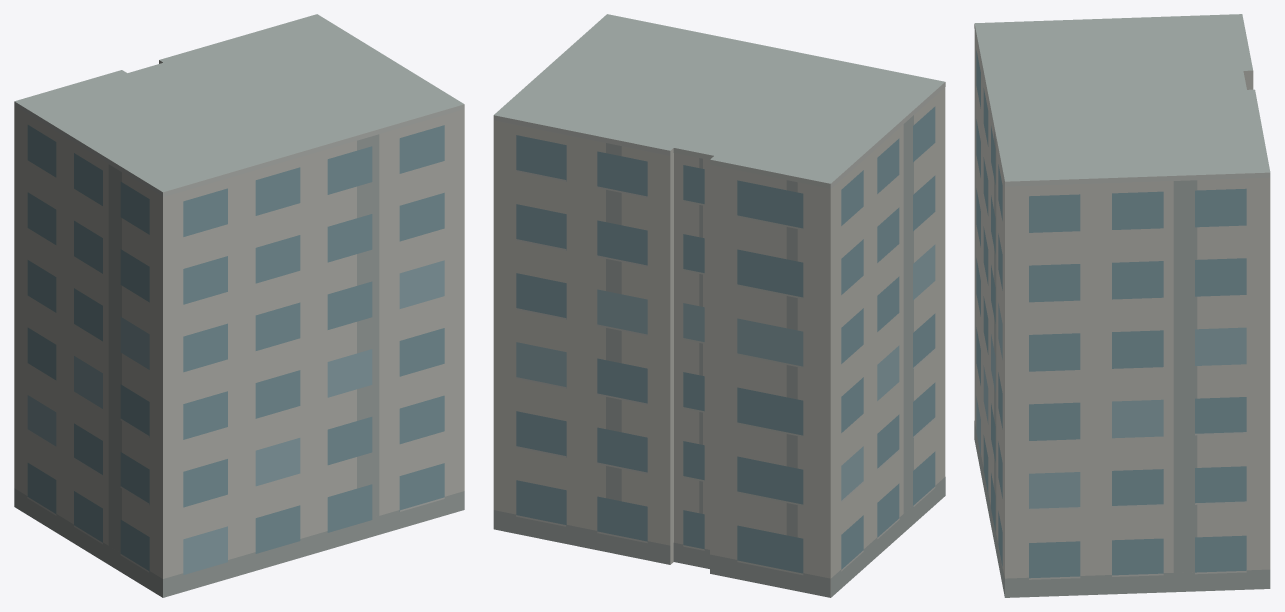
The model's file is survey-upis-32627909.glb.
3 views of the same model, side by side, from view 1: azimuth 30°, elevation 25°; view 2: azimuth 150°, elevation 25°; view 3: azimuth 270°, elevation 25° (orthographic). The views are drawn at different scales.
Visible parts, largest first — view 1: survey-upis-32627909.tmp; view 2: survey-upis-32627909.tmp; view 3: survey-upis-32627909.tmp.
Part boxes in pixels (bbox=[...]): survey-upis-32627909.tmp: bbox=[14, 14, 464, 597]; survey-upis-32627909.tmp: bbox=[493, 14, 945, 597]; survey-upis-32627909.tmp: bbox=[974, 14, 1270, 597].
Size of the model in its own units: 17.02 by 19.7 by 12.7.
